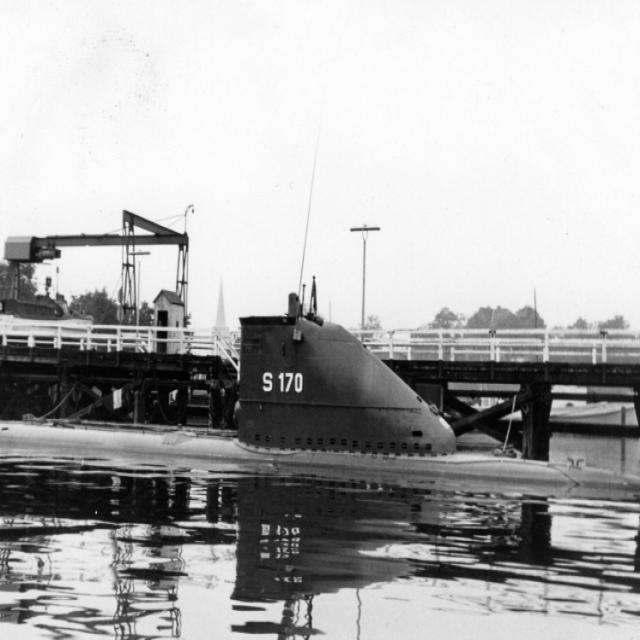submarine: (1, 317, 640, 495)
